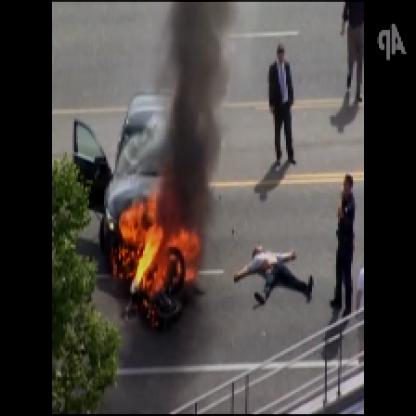Fire: (108, 186, 206, 301)
Smoke: (148, 2, 240, 230)
